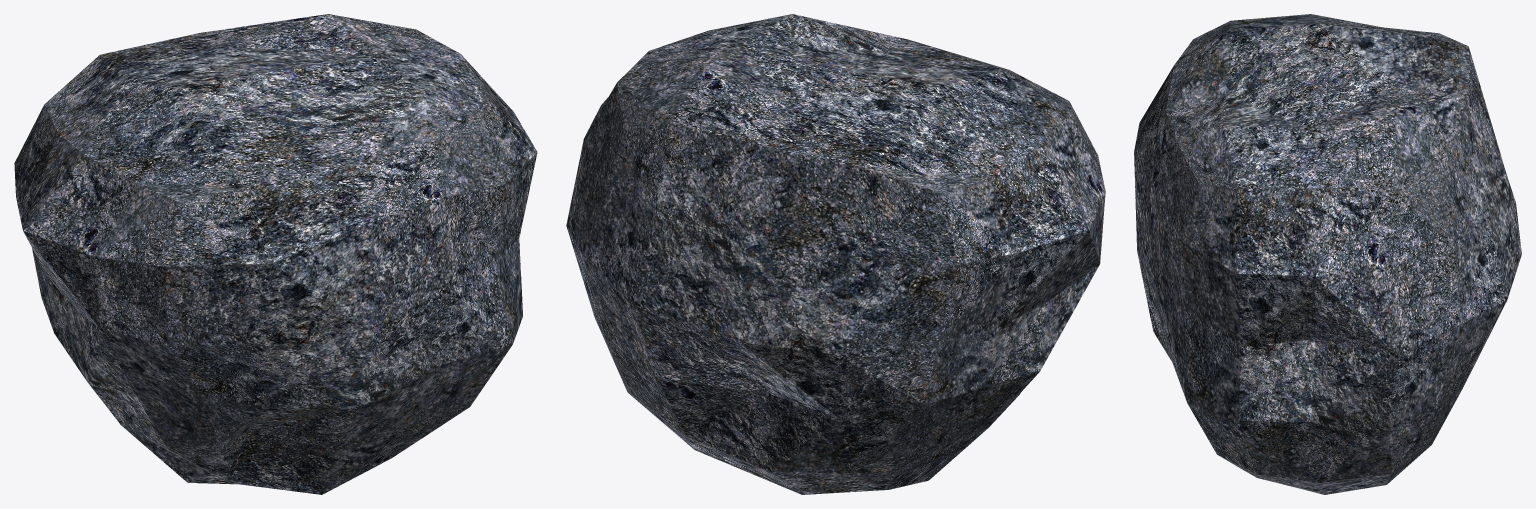
File: asteroid_iron_medium_s01_l1.fbx
3 renders of one model, left to right at view 1: azimuth 30°, elevation 25°; view 2: azimuth 150°, elevation 25°; view 3: azimuth 270°, elevation 25°, orthographic. The views are drawn at different scales.
Visible parts, largest first — view 1: mesh_node; view 2: mesh_node; view 3: mesh_node.
Boxes of the visible parts, x1,y1,x2,y2 form: mesh_node: [14, 14, 537, 494]; mesh_node: [566, 14, 1105, 494]; mesh_node: [1134, 14, 1521, 494].
Bounding box in the file's own units: 67.4 × 55.53 × 48.85.
